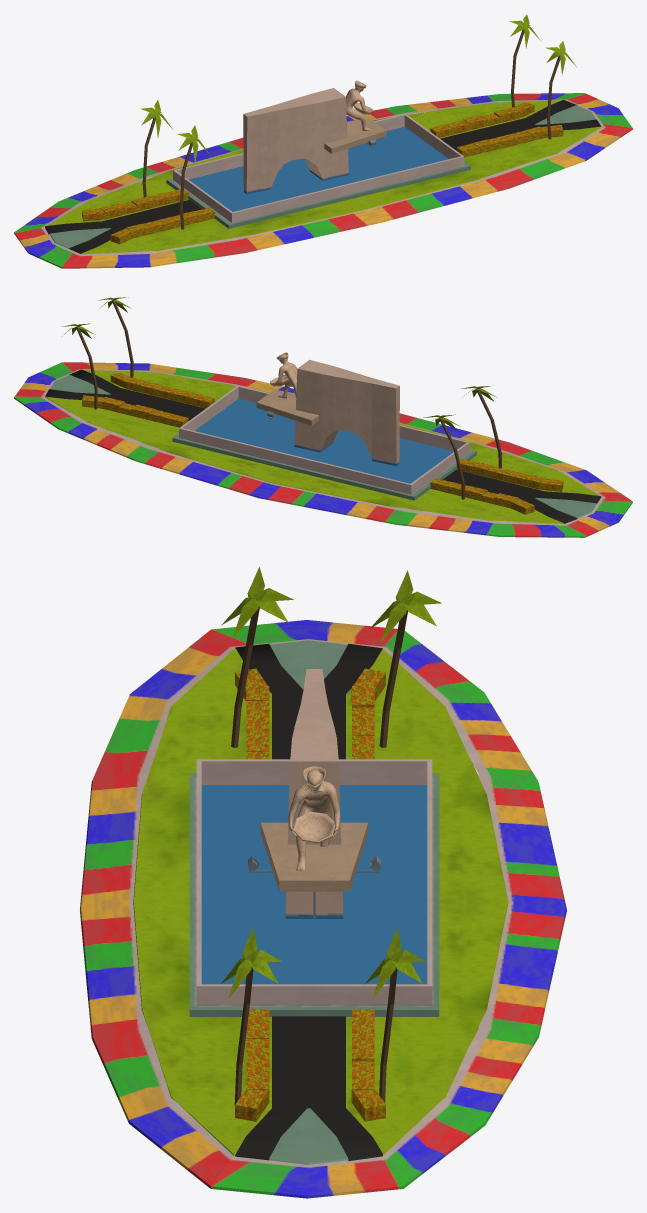
File: garimpeiroLOD0.fbx
3 renders of one model, top to bottom at view 1: azimuth 30°, elevation 25°; view 2: azimuth 150°, elevation 25°; view 3: azimuth 270°, elevation 25°, orthographic. The views are drawn at different scales.
Visible parts, largest first — view 1: GarimpeiroLOD0; view 2: GarimpeiroLOD0; view 3: GarimpeiroLOD0.
Boxes of the visible parts, left/top/right/bottom form: GarimpeiroLOD0: left=14, top=14, right=632, bottom=268; GarimpeiroLOD0: left=14, top=297, right=632, bottom=537; GarimpeiroLOD0: left=80, top=567, right=566, bottom=1198.
Bounding box in the file's own units: 3240 × 507 × 1158.
1 material, 1 textured.
